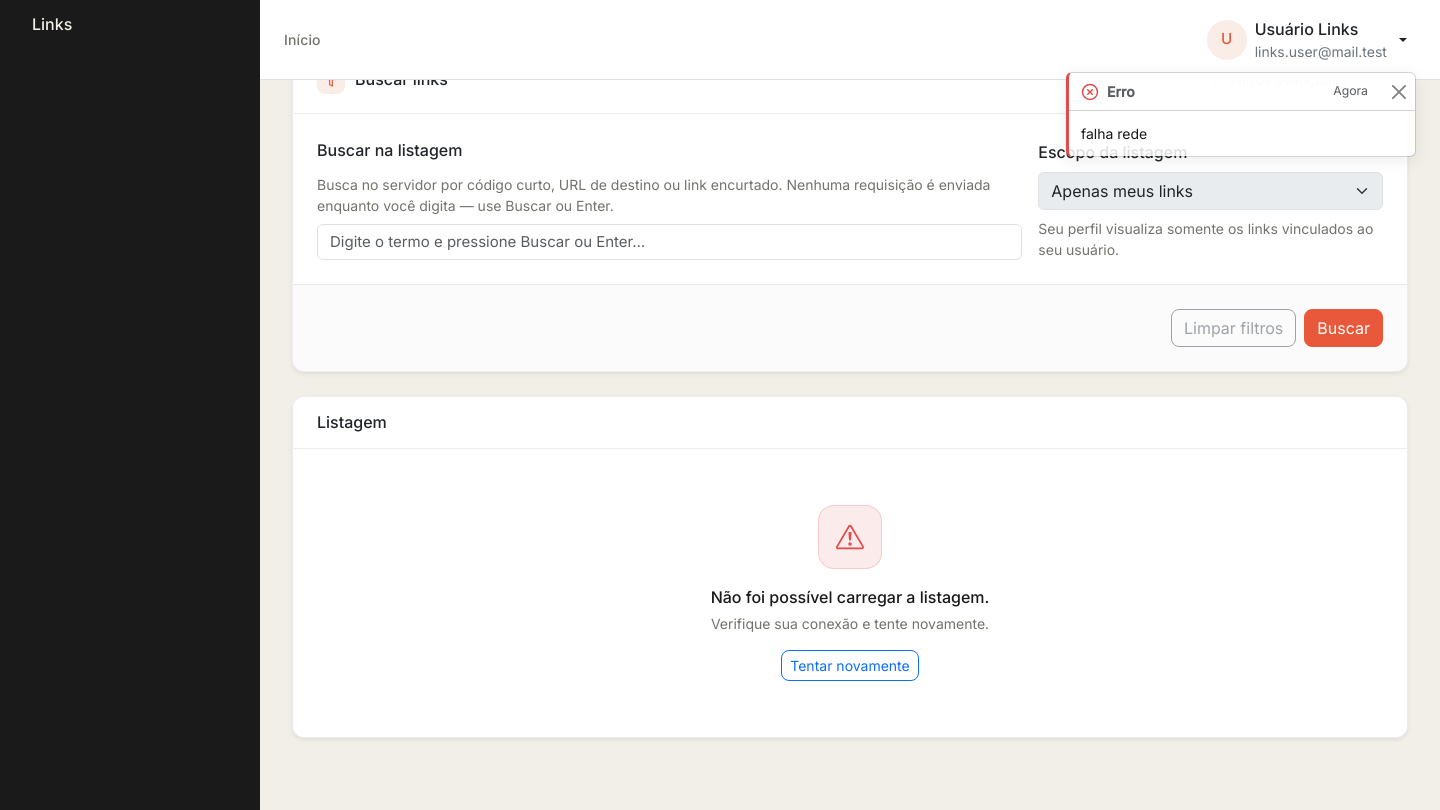
Test: Links › recarrega a listagem ao clicar em Tentar novamente após erro
The width and height of the screenshot is (1440, 810).
(page scrolled)
Check: the text "Não foi possível carregar a listagem." is shown, box [711, 585, 989, 609]
Click the button "Tentar novamente" at [850, 666], box [781, 650, 919, 681]
(page scrolled)
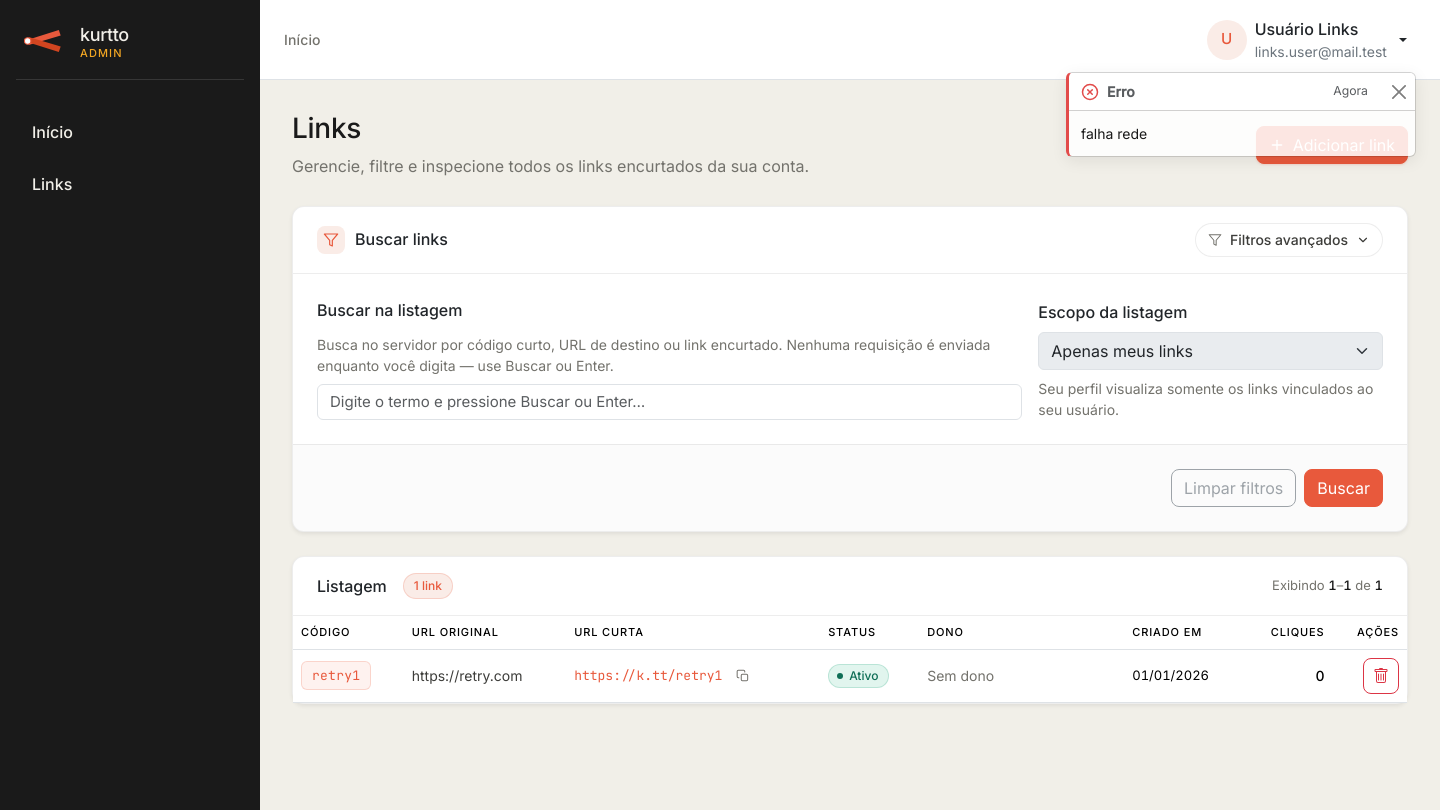
Check: the link "https://retry.com" is shown, box [412, 667, 522, 684]
